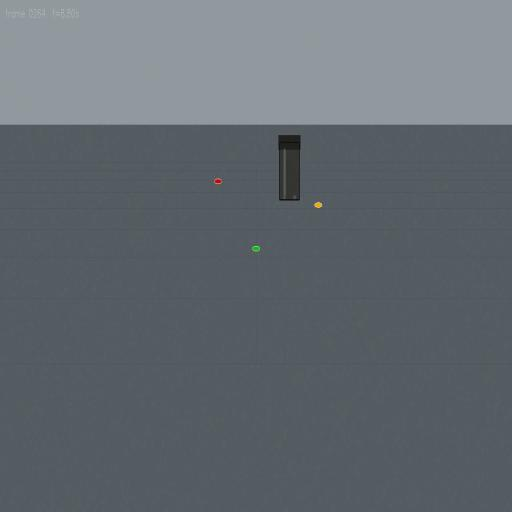bin: (278, 135, 301, 201)
